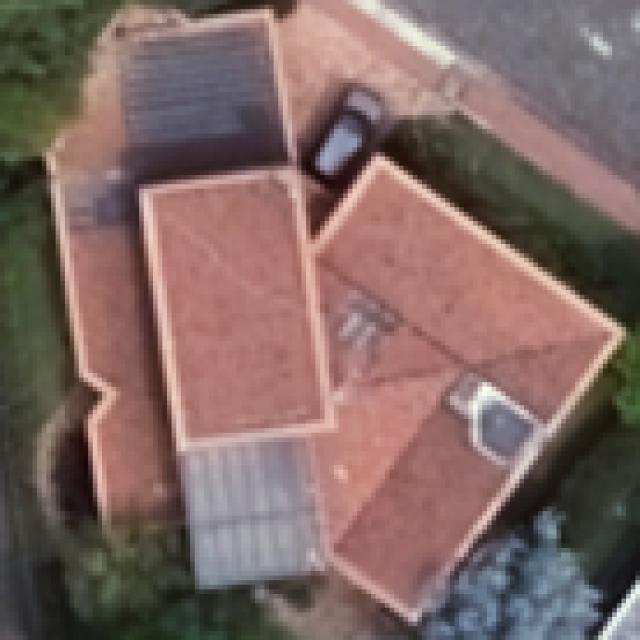Batiment: (315, 156, 623, 621), (48, 10, 285, 526), (140, 167, 335, 587)
